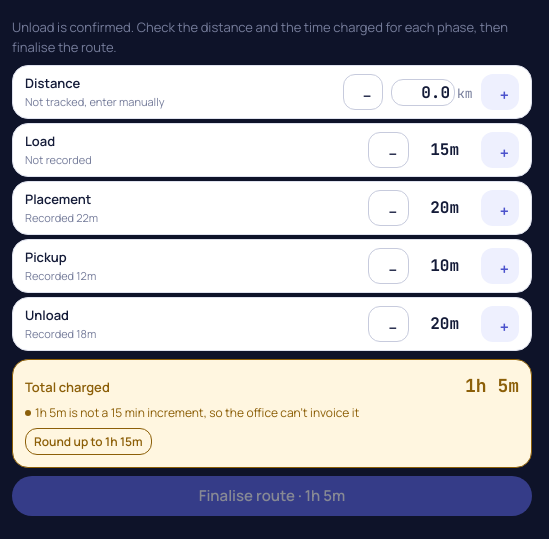
it: AdministratorFinalisePanel › keeps the panel and what was entered when the save fails
Click the button "Round up to 1h 15m" at (88, 441), box x1=25 y1=428 x2=152 y2=455
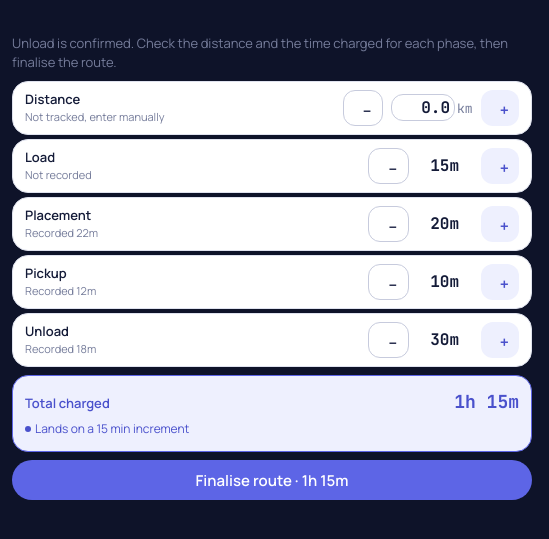
Replace the text in the field named "Distance (km)" with "37.5" at (423, 108), box x1=391 y1=94 x2=455 y2=121
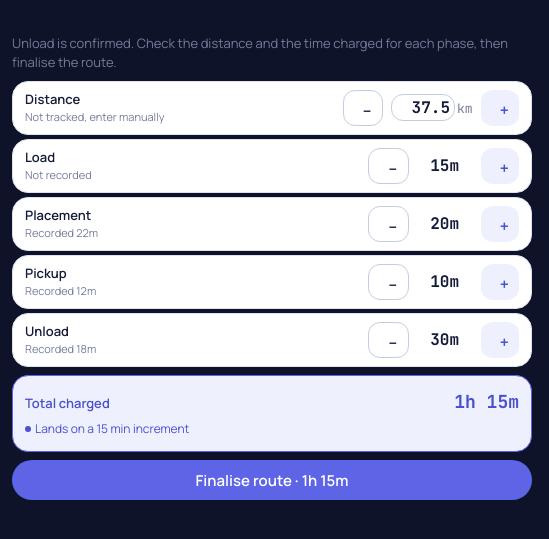
Click the button "Finalise route · 1h 15m" at (272, 480), box x1=12 y1=460 x2=532 y2=500
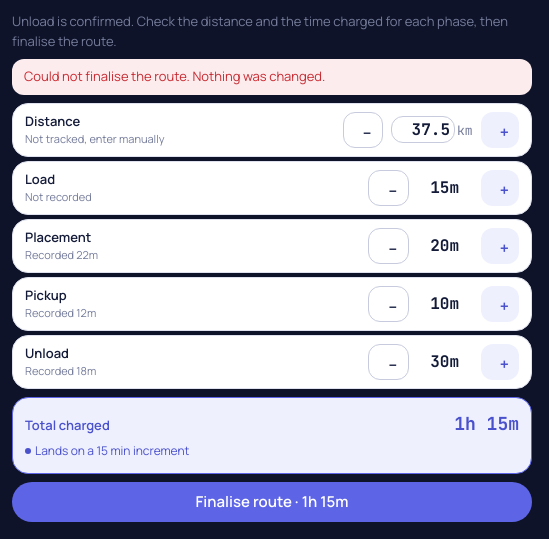
Expected: the message reads "Could not finalise the route. Nothing was changed.", x1=24 y1=67 x2=325 y2=85
